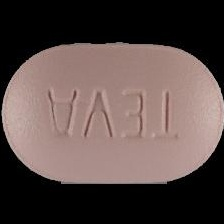0093-8232: (0, 0, 224, 224)
